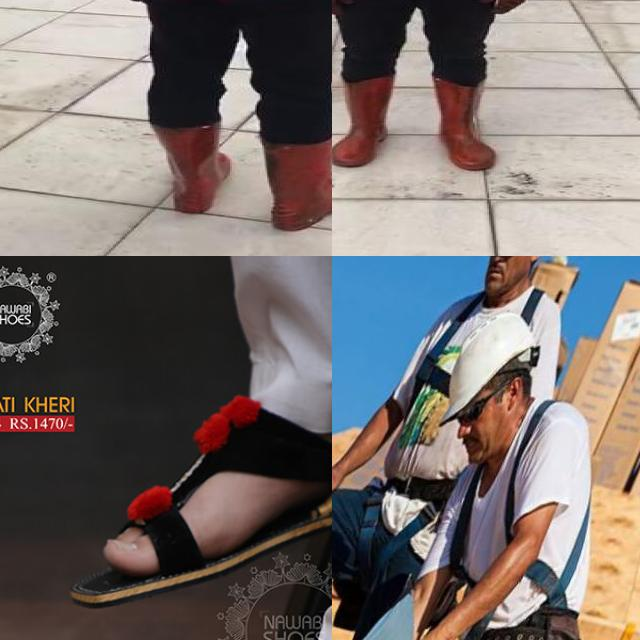Harness: (467, 504, 590, 640)
boots: (152, 122, 234, 214), (428, 76, 499, 170), (262, 136, 332, 231), (332, 78, 387, 169)
hand_glove: (480, 0, 531, 13)
person: (59, 0, 332, 239), (332, 0, 547, 181)
